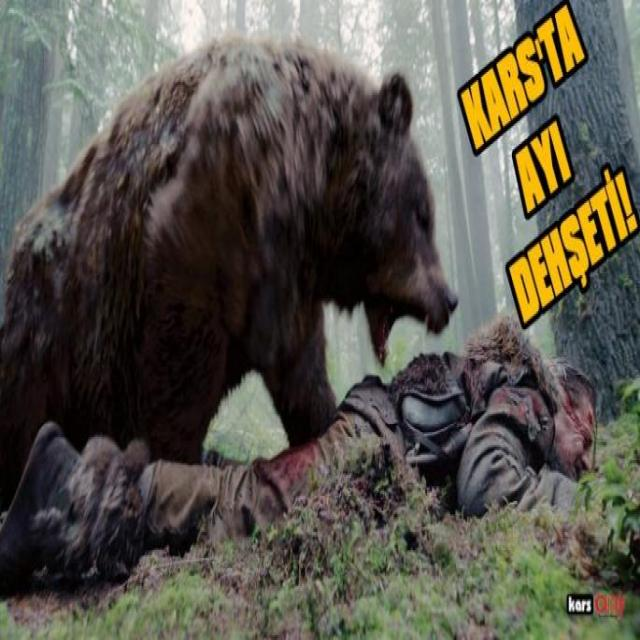Bear: (0, 34, 459, 527)
